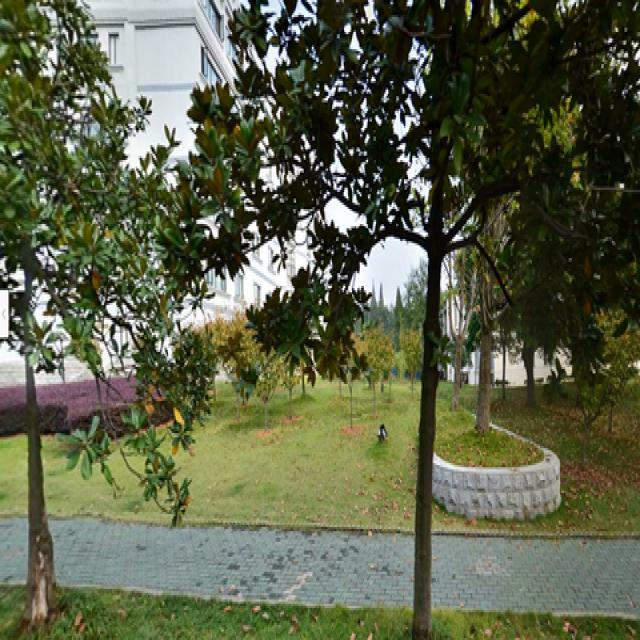magn: (213, 2, 631, 632)
